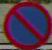No waiting: (3, 2, 48, 45)
